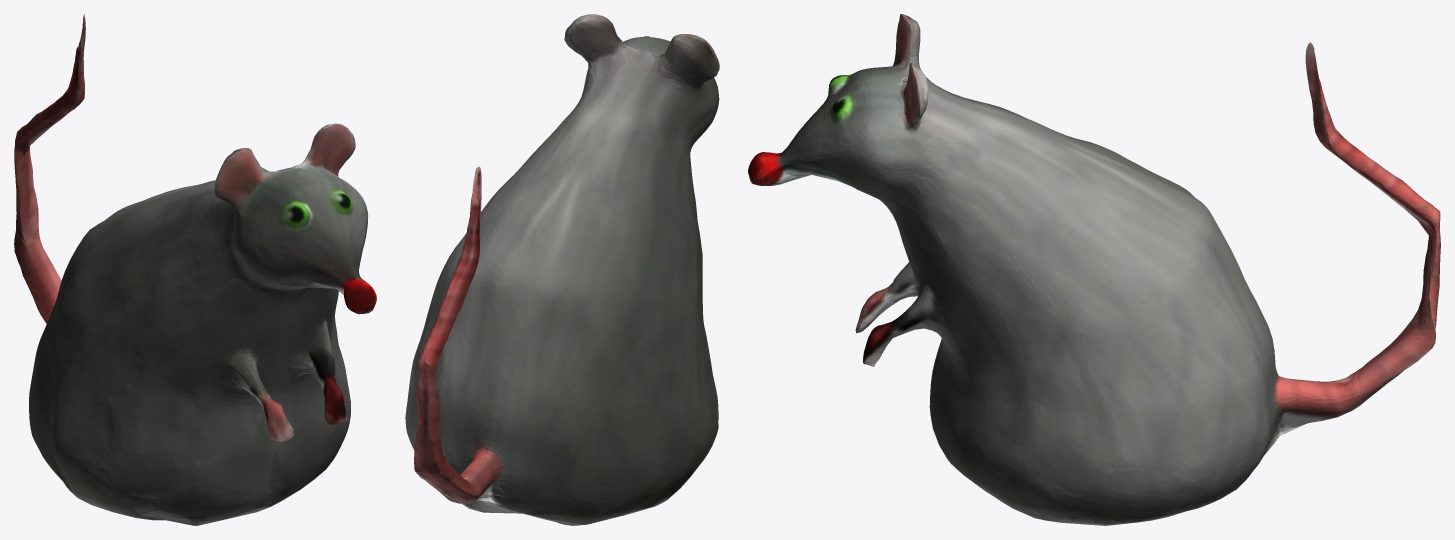
Rendered from rat.glb.glb.
3 views of the same model, side by side, from view 1: azimuth 30°, elevation 25°; view 2: azimuth 150°, elevation 25°; view 3: azimuth 270°, elevation 25° (orthographic). The views are drawn at different scales.
Bounding box in the file's own units: 0.3074 × 0.4264 × 0.6035.
Materials: 1 (1 with a texture image).
